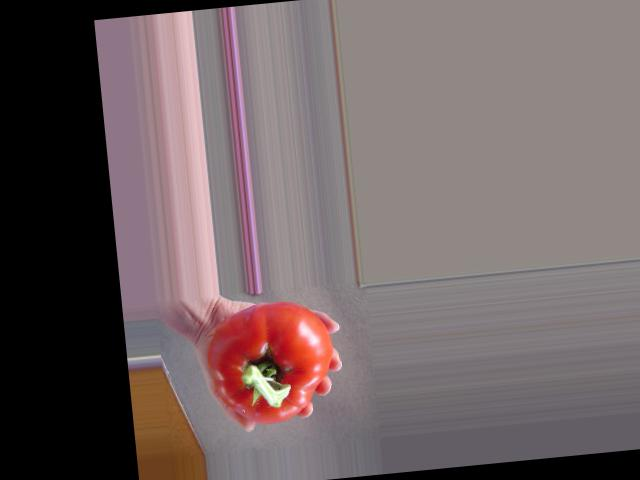tomato: (203, 296, 339, 429)
